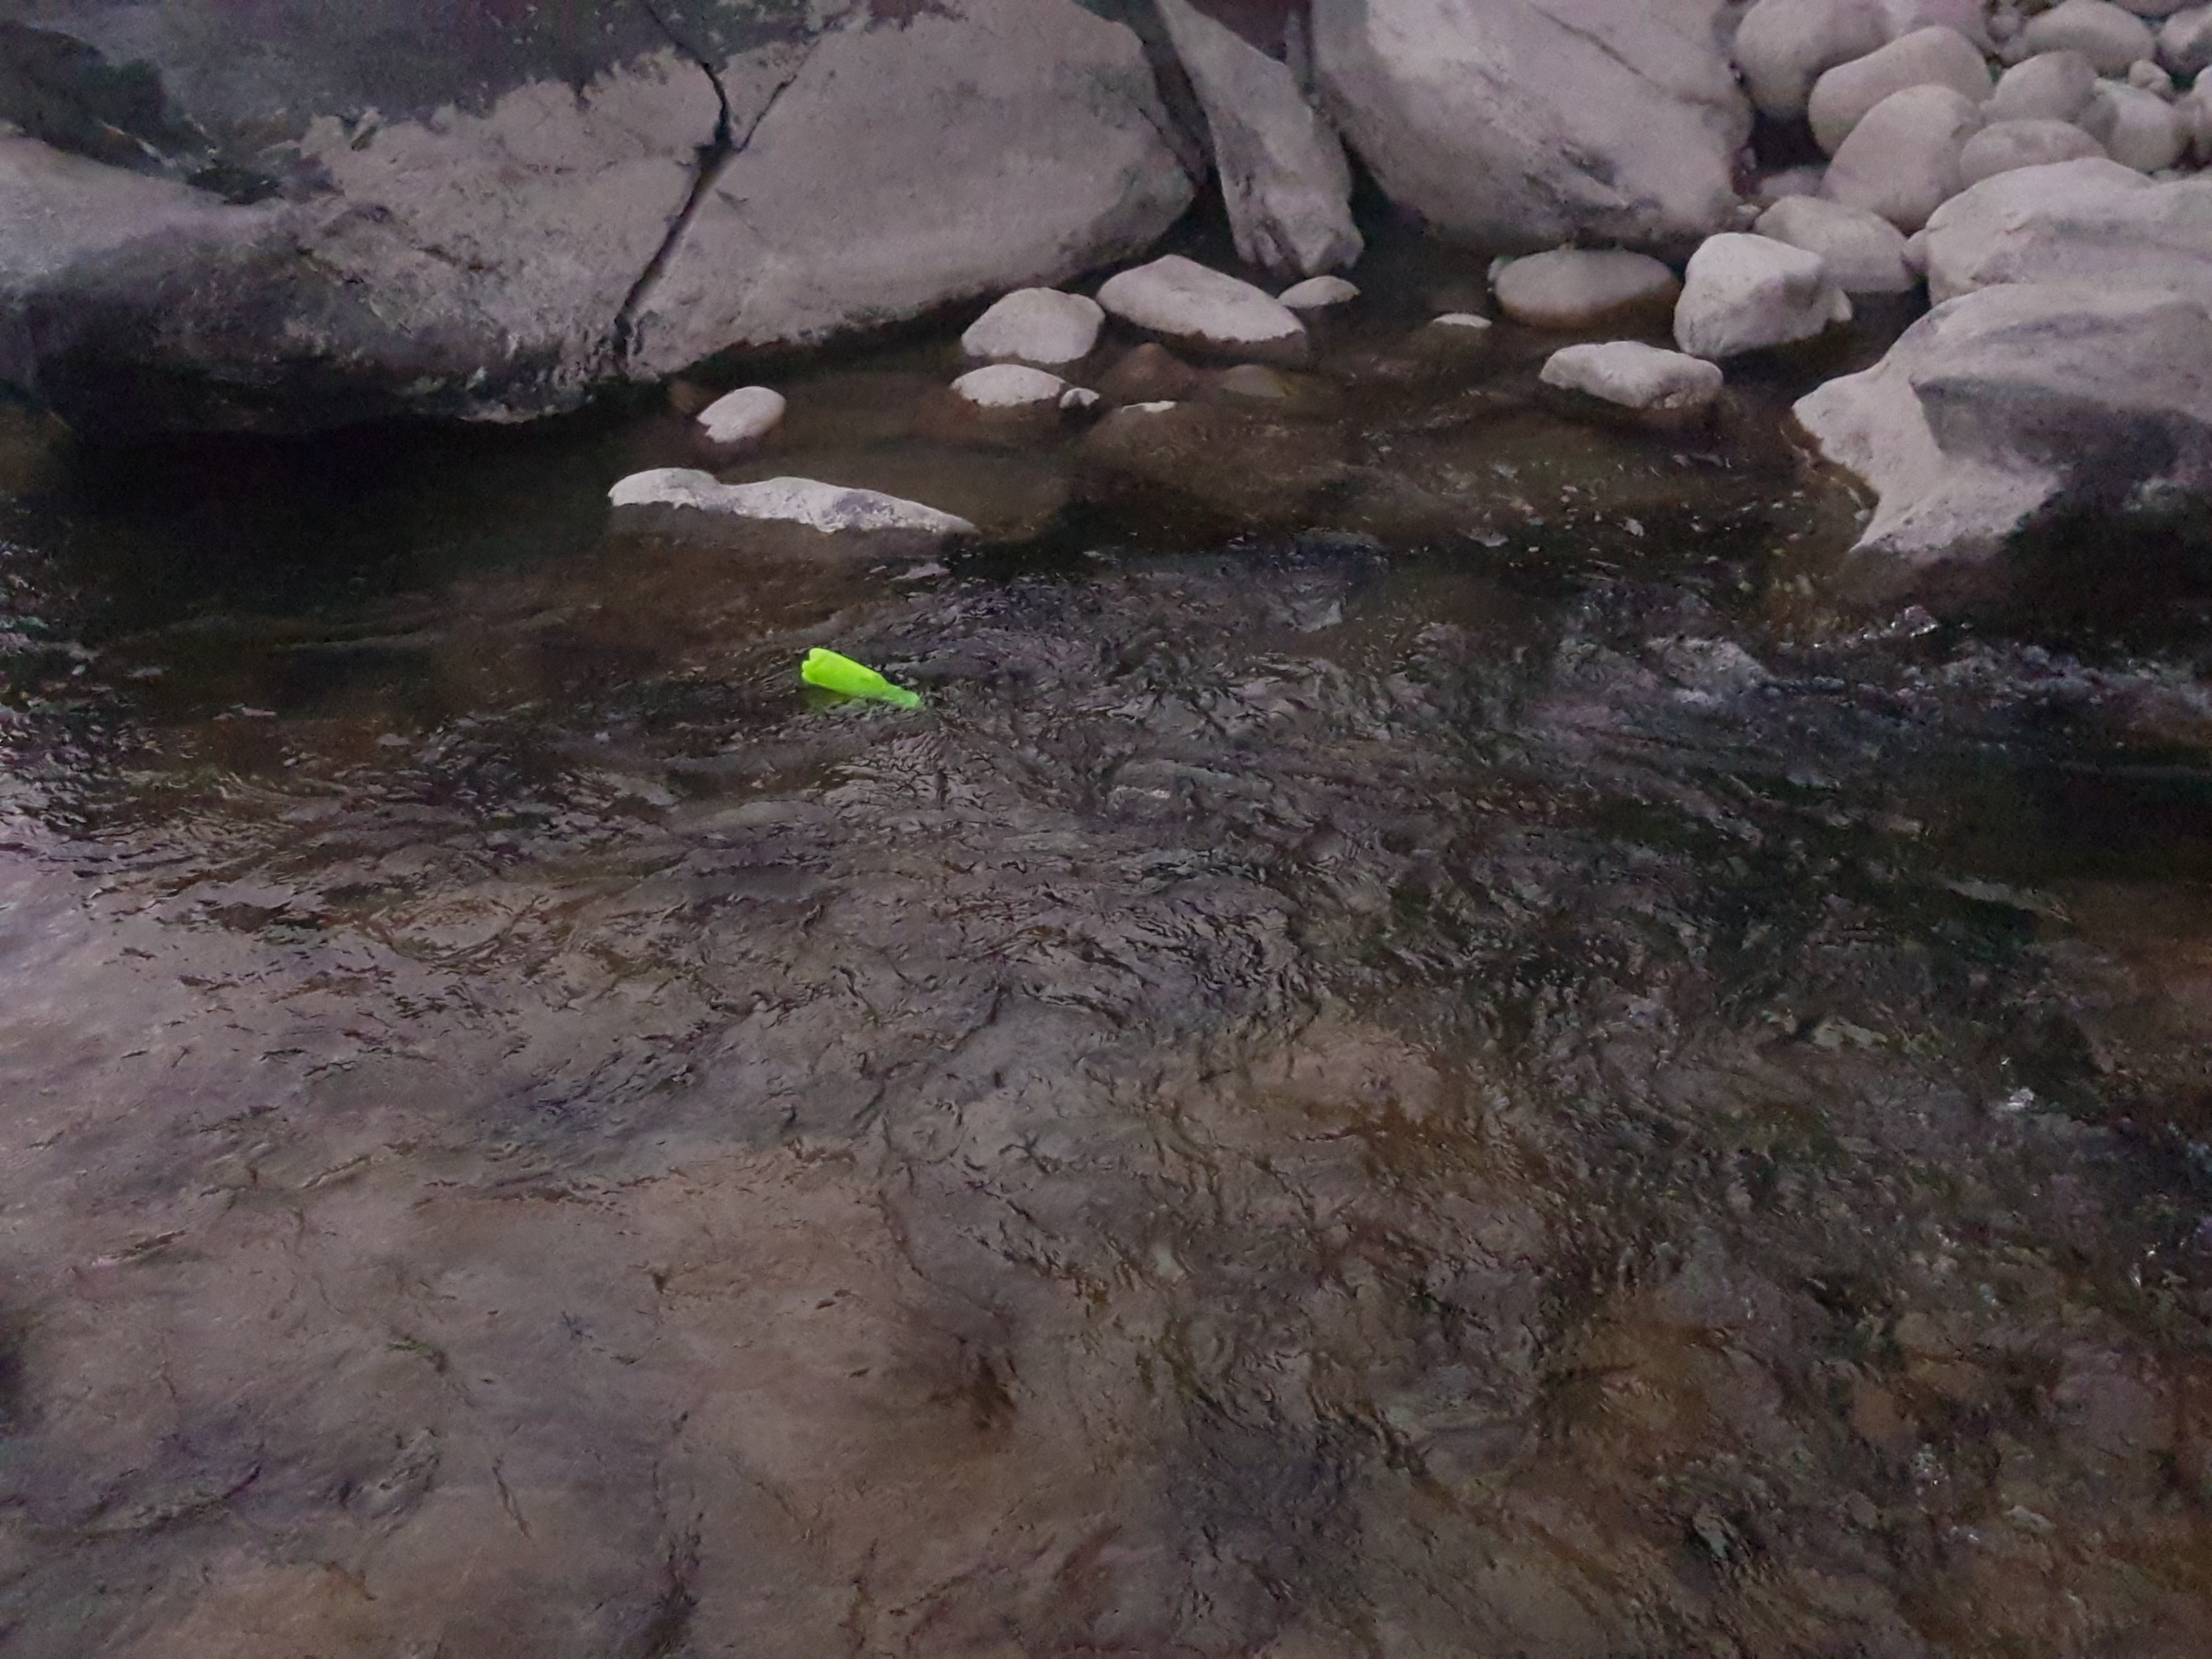Plastic Bottle: (799, 647, 923, 709)
